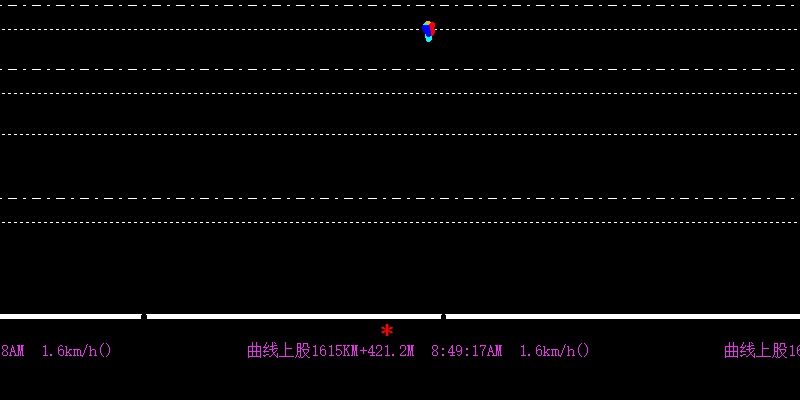face_s: (422, 18, 435, 43)
star: (380, 320, 394, 339)
